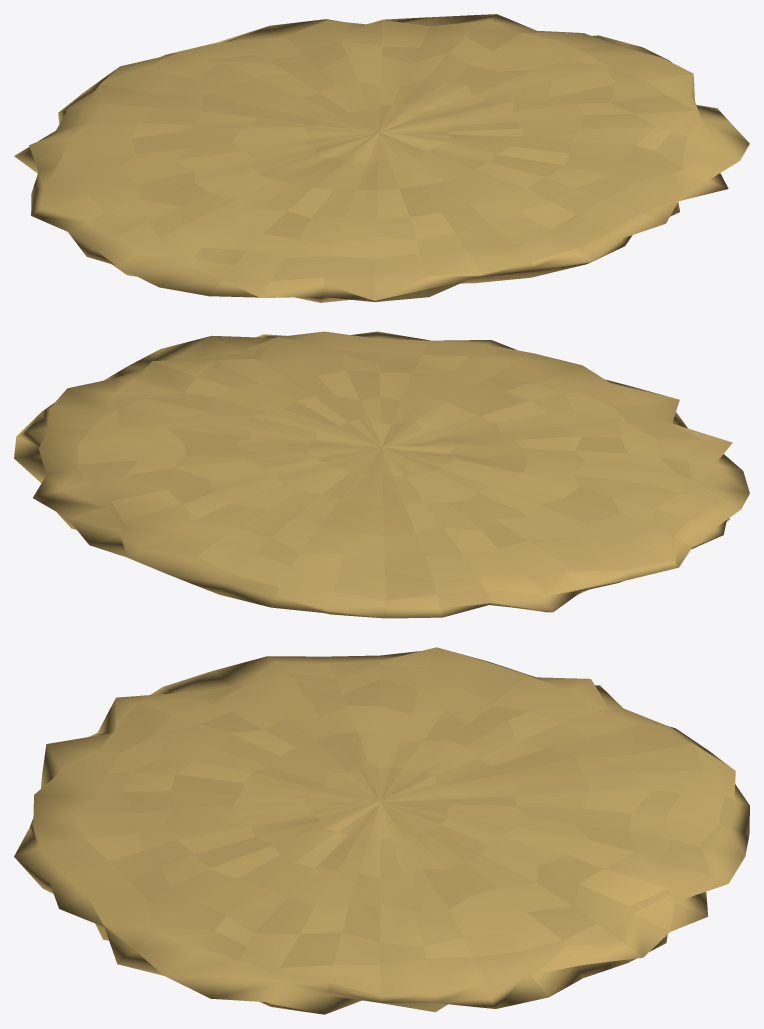
The model's file is ChickenStock.glb.
3 views of the same model, one above another, from view 1: azimuth 30°, elevation 25°; view 2: azimuth 150°, elevation 25°; view 3: azimuth 270°, elevation 25° (orthographic). The views are drawn at different scales.
Visible parts, largest first — view 1: ChickenStock; view 2: ChickenStock; view 3: ChickenStock.
Part boxes in pixels (<box>): ChickenStock: <box>14,14,749,302</box>; ChickenStock: <box>14,331,749,618</box>; ChickenStock: <box>14,647,749,1014</box>.
Size of what is drawn, in the model's own units: 0.0715 by 0.0058 by 0.0629.
